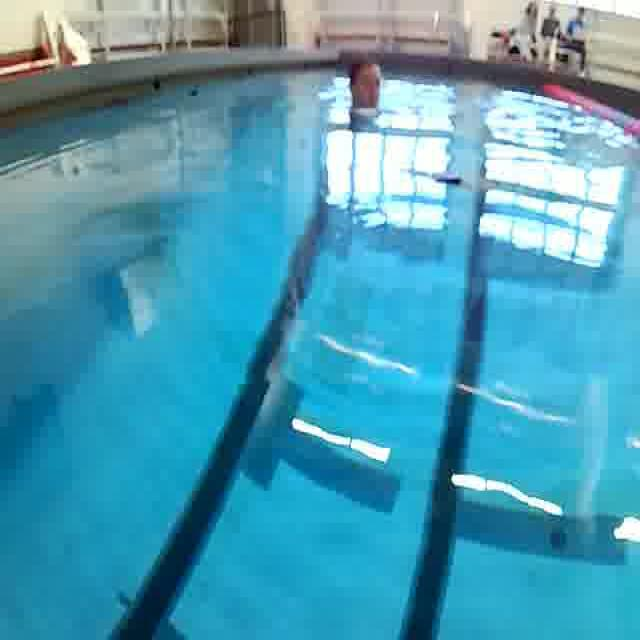CamMount: (430, 164, 465, 192)
